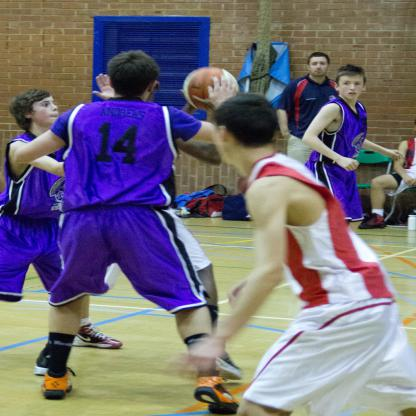Ball: (181, 68, 238, 111)
